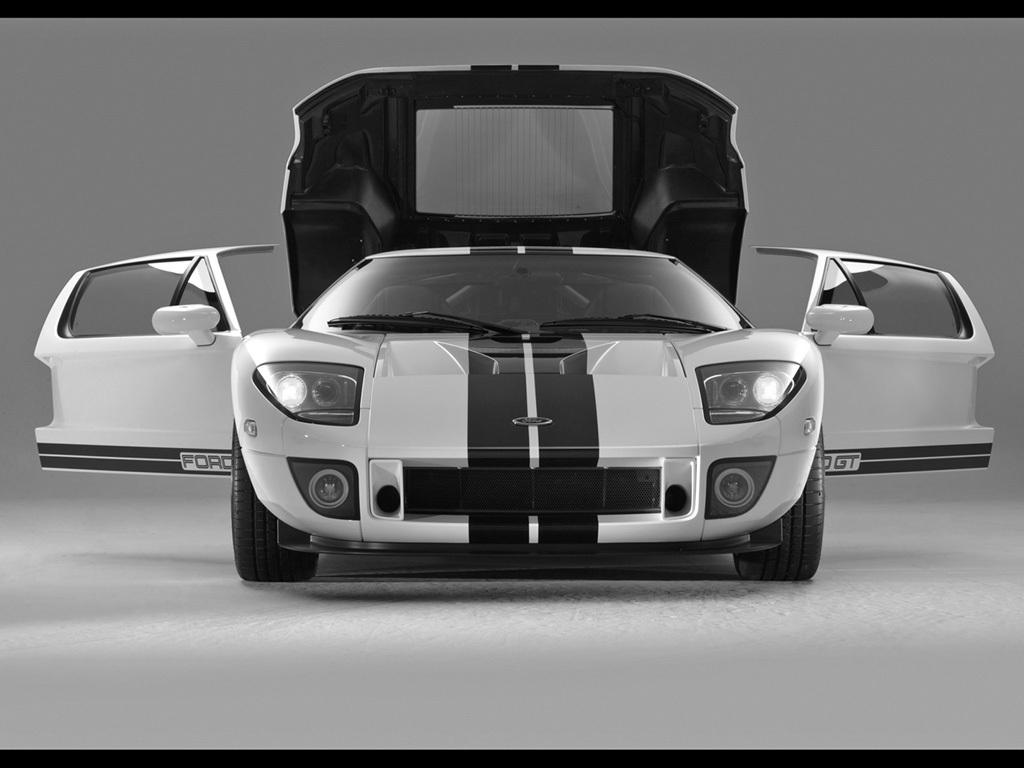car: (34, 61, 997, 585)
